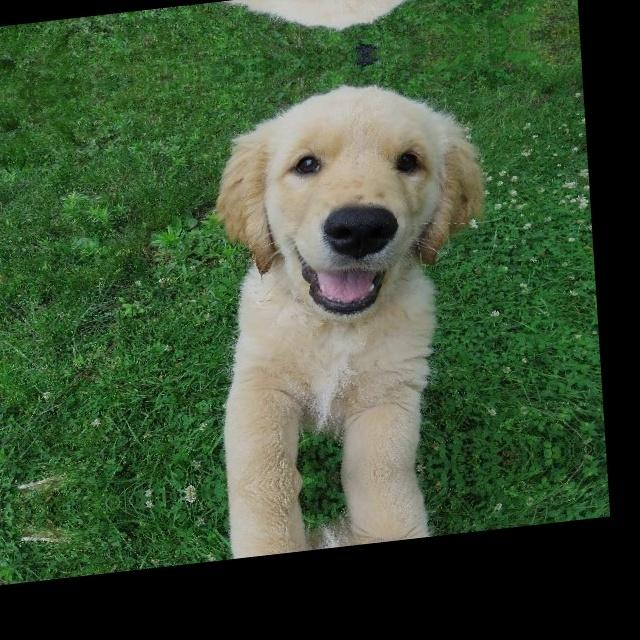dog: (158, 58, 503, 495), (183, 458, 508, 564), (153, 0, 476, 63)
